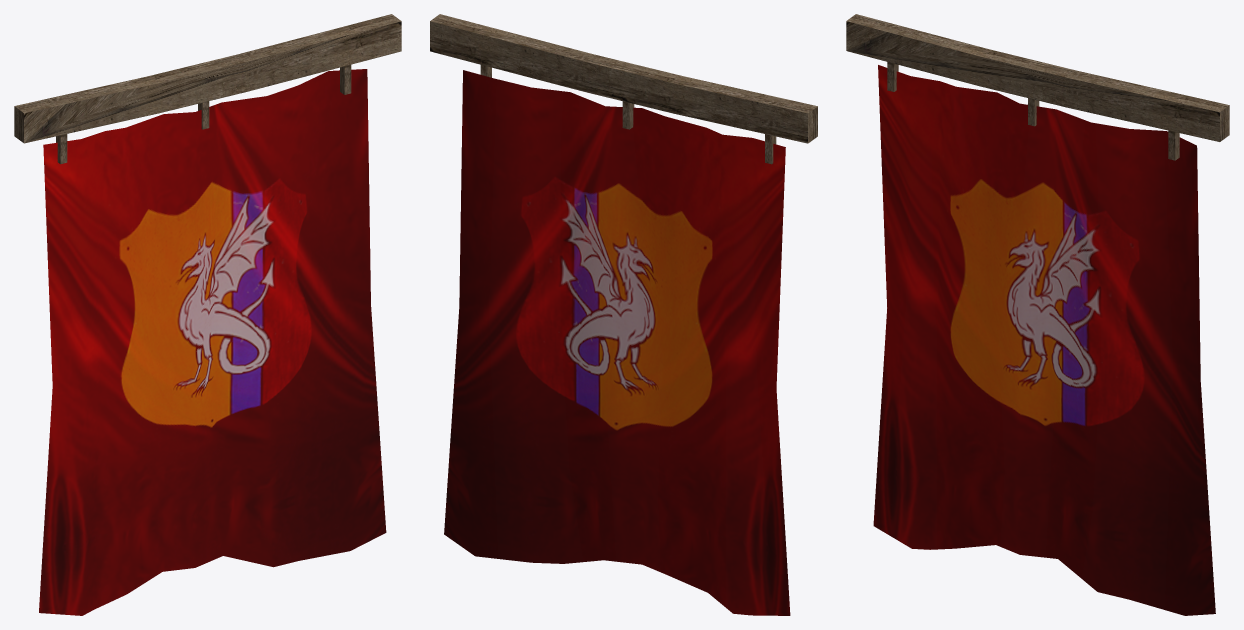
File: banner.fbx
3 views of the same model, side by side, from view 1: azimuth 30°, elevation 25°; view 2: azimuth 150°, elevation 25°; view 3: azimuth 330°, elevation 25° (orthographic).
Parts seen in each view (by area): view 1: Mesh; view 2: Mesh; view 3: Mesh.
Part boxes in pixels (<box>): Mesh: <box>14,14,401,615</box>; Mesh: <box>430,14,817,615</box>; Mesh: <box>846,14,1229,615</box>.
Bounding box in the file's own units: 285 × 378 × 12.84.
